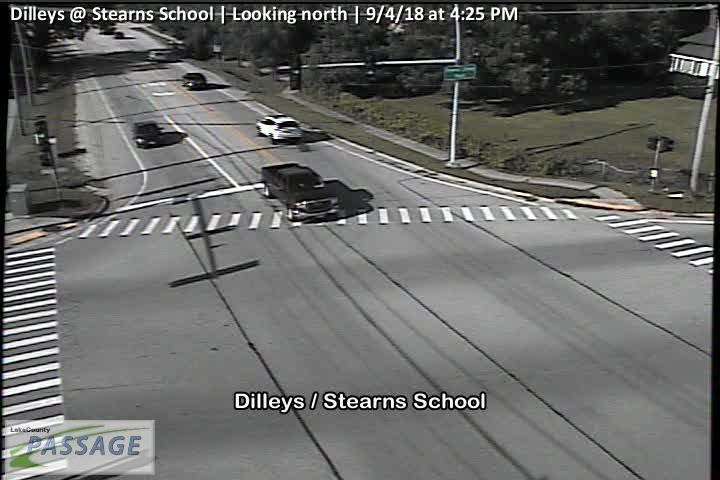SUV: (256, 113, 304, 146)
Sedan: (134, 120, 164, 150), (183, 72, 207, 90), (146, 48, 170, 62)
Truck: (262, 163, 340, 221)
